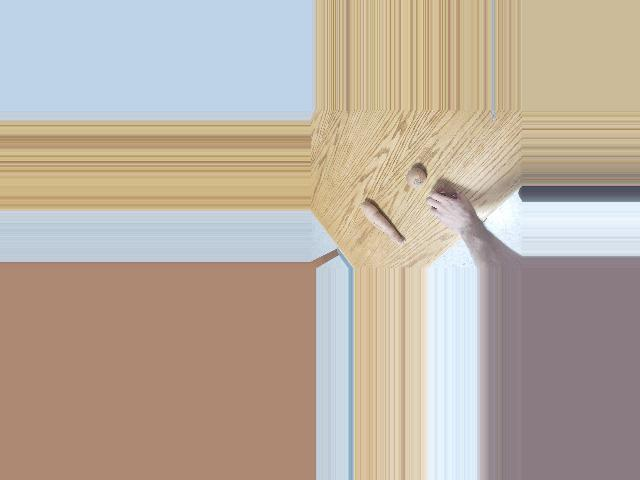onion: (433, 185, 459, 206)
